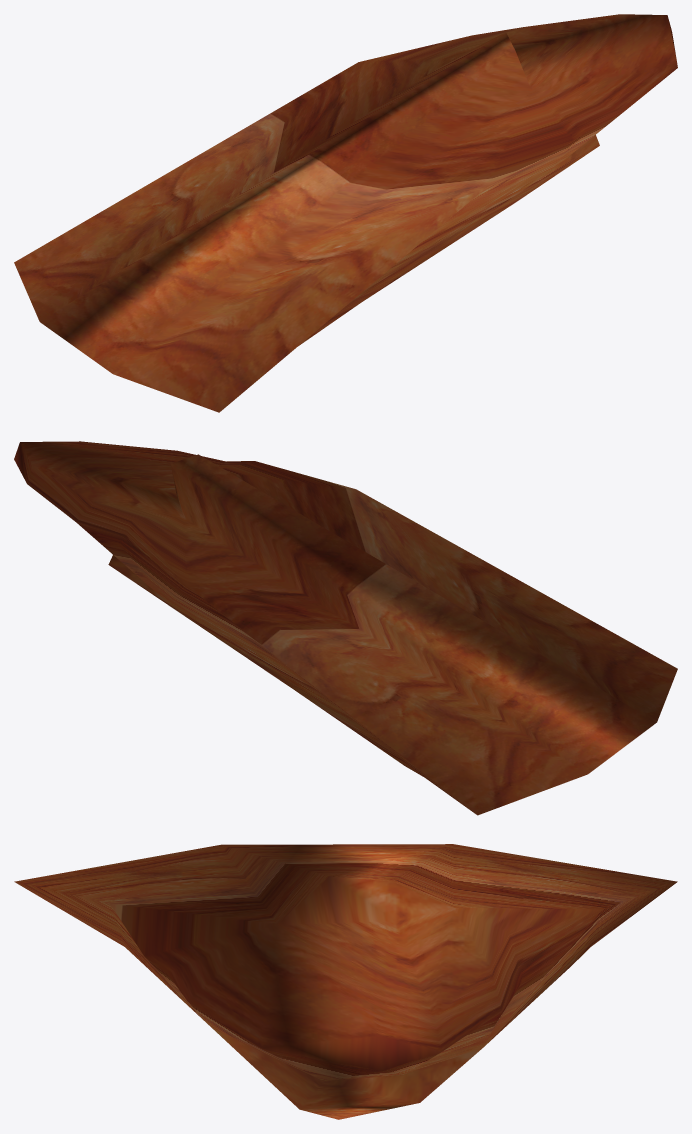
File: durotarrock01.obj
3 views of the same model, one above another, from view 1: azimuth 30°, elevation 25°; view 2: azimuth 150°, elevation 25°; view 3: azimuth 270°, elevation 25° (orthographic). The views are drawn at different scales.
Visible parts, largest first — view 1: DurotarRock01; view 2: DurotarRock01; view 3: DurotarRock01.
Boxes of the visible parts, left/top/right/bottom form: DurotarRock01: left=14, top=14, right=677, bottom=412; DurotarRock01: left=14, top=441, right=677, bottom=815; DurotarRock01: left=14, top=844, right=677, bottom=1119.
Bounding box in the file's own units: 23.54 × 8.05 × 13.72.
1 material, 1 textured.
